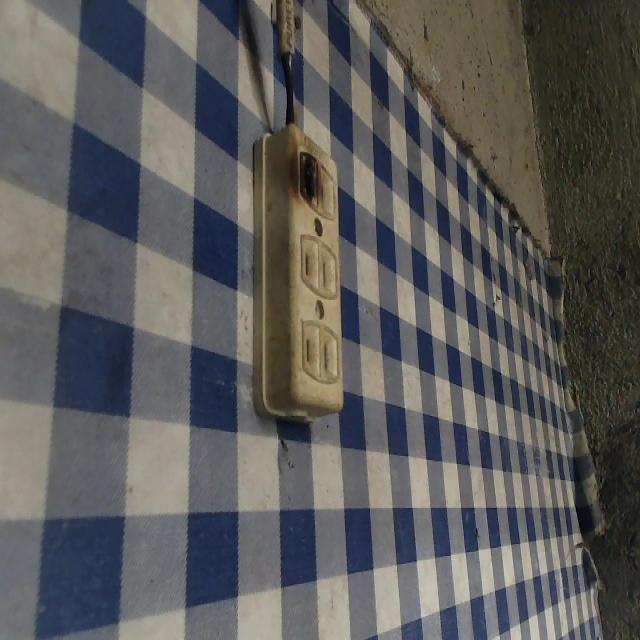-: (282, 135, 322, 213)
